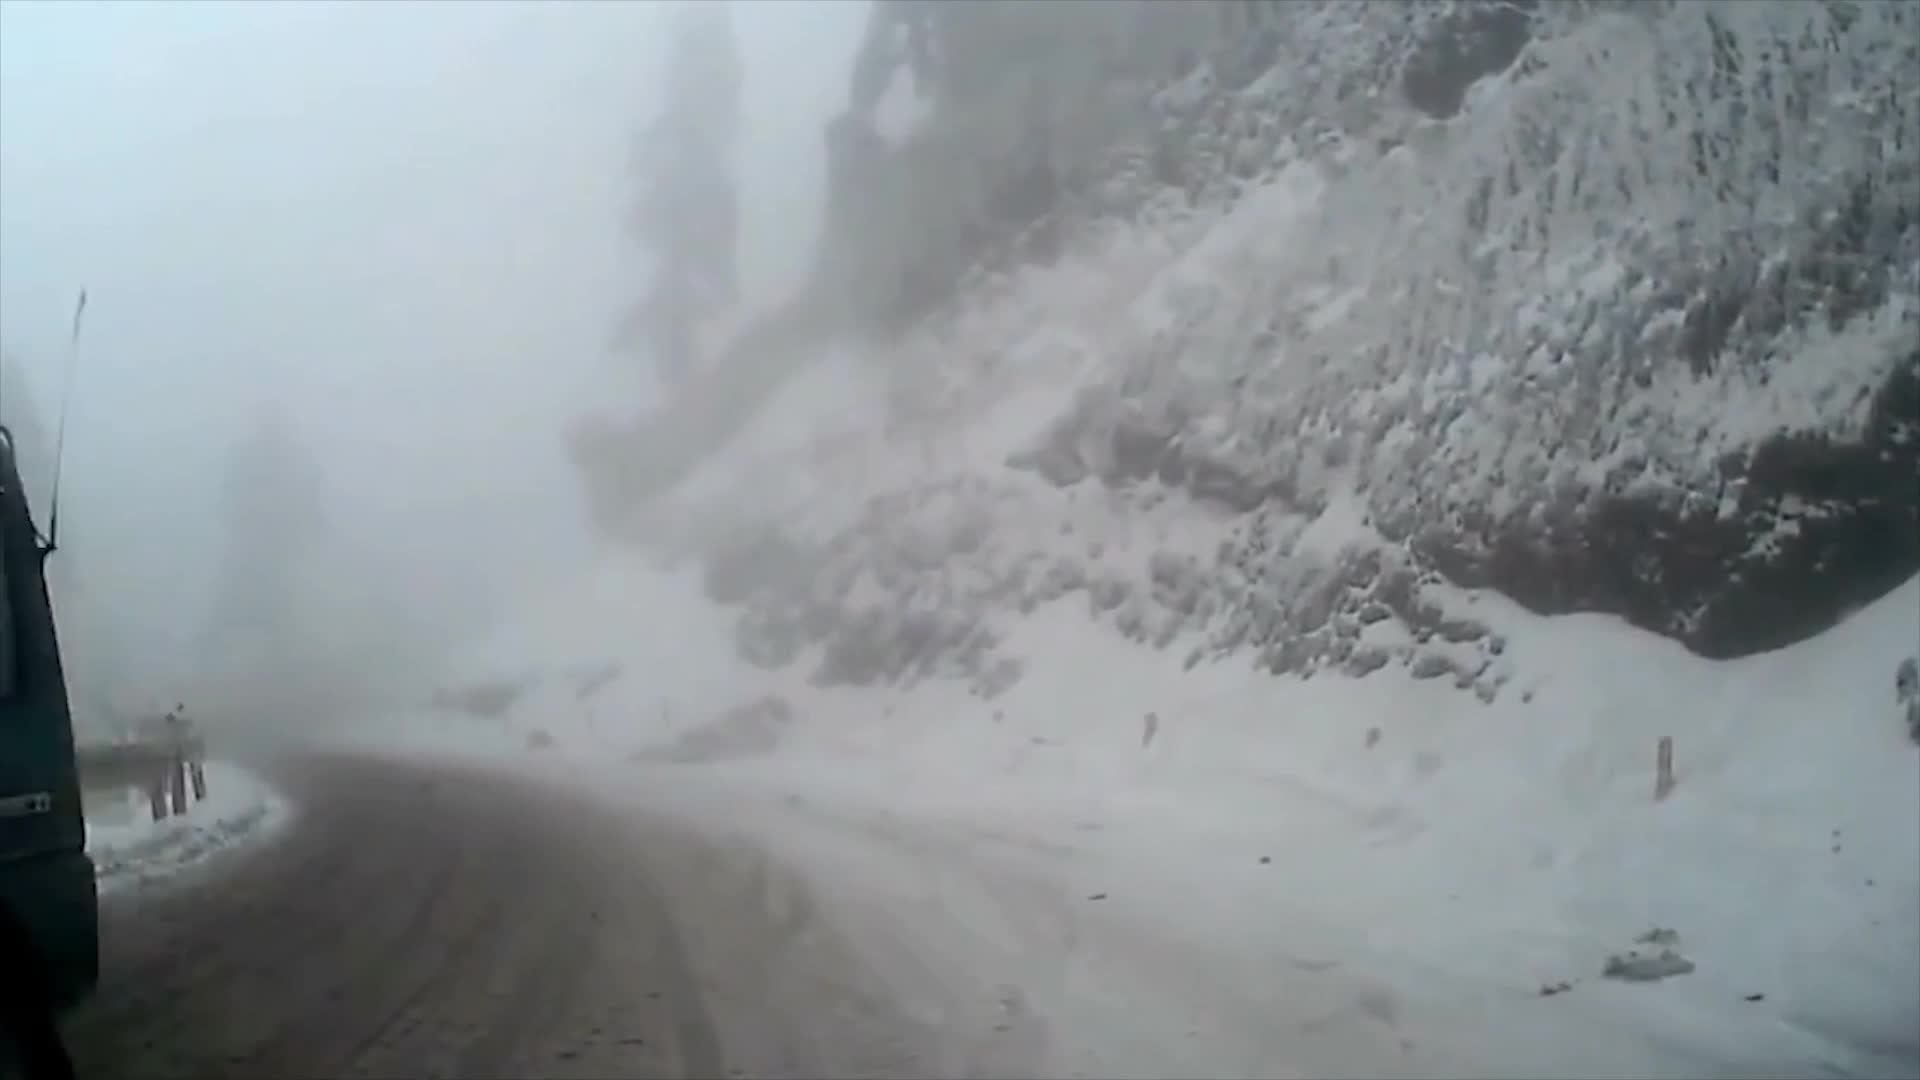vehicle: (0, 427, 100, 1079)
